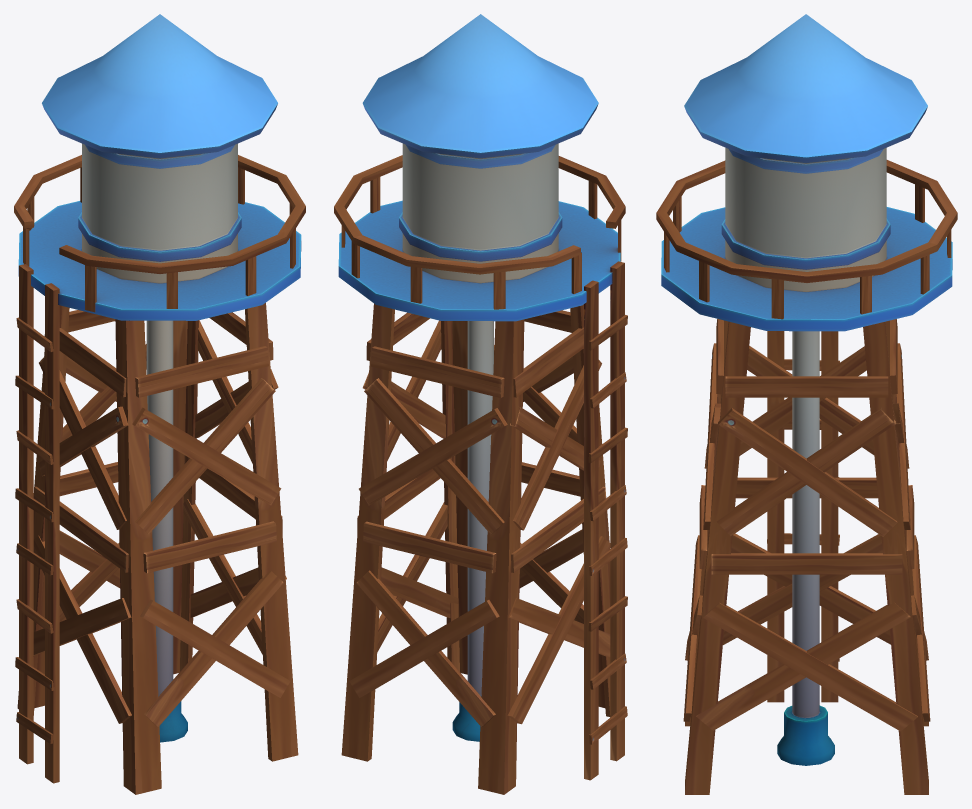
File: CaixaDaguaAmericana.fbx
3 renders of one model, left to right at view 1: azimuth 30°, elevation 25°; view 2: azimuth 150°, elevation 25°; view 3: azimuth 270°, elevation 25°, orthographic. The views are drawn at different scales.
Parts seen in each view (by area): view 1: CaixaDaguaAmericana; view 2: CaixaDaguaAmericana; view 3: CaixaDaguaAmericana.
Boxes of the visible parts, x1,y1,x2,y2 form: CaixaDaguaAmericana: (14,14,305,794); CaixaDaguaAmericana: (334,14,627,794); CaixaDaguaAmericana: (656,14,957,794).
Bounding box in the file's own units: 2.6 × 7.05 × 2.57.
